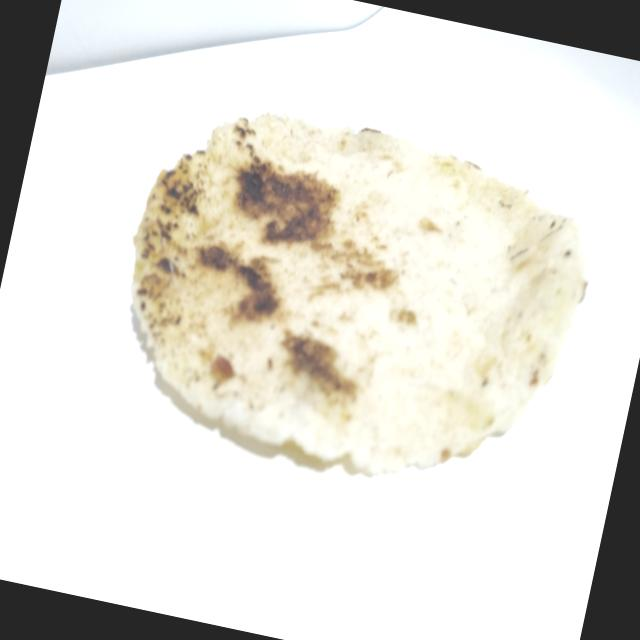Mbeju: (80, 54, 620, 520)
